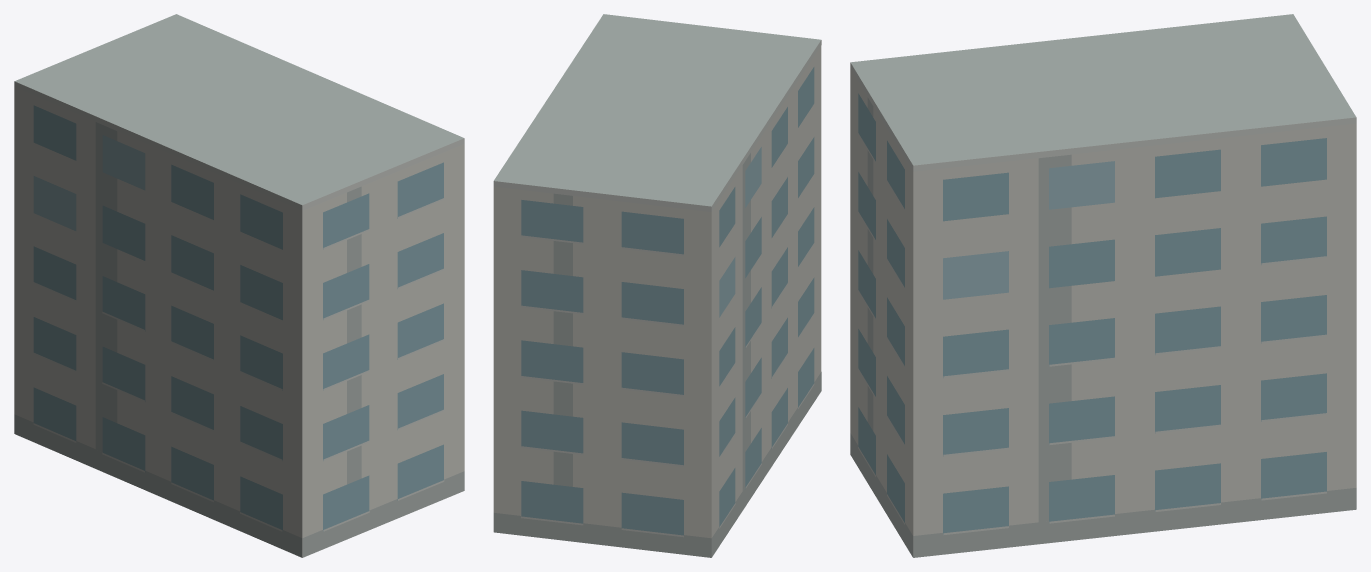
The model's file is residential-c38dee9c-52ae-45ca-85ea-59201342b308.glb.
3 renders of one model, left to right at view 1: azimuth 30°, elevation 25°; view 2: azimuth 150°, elevation 25°; view 3: azimuth 270°, elevation 25°, orthographic. The views are drawn at different scales.
Visible parts, largest first — view 1: residential-c38dee9c-52ae-45ca-85ea-59201342b308.tmp; view 2: residential-c38dee9c-52ae-45ca-85ea-59201342b308.tmp; view 3: residential-c38dee9c-52ae-45ca-85ea-59201342b308.tmp.
Boxes of the visible parts, x1,y1,x2,y2 form: residential-c38dee9c-52ae-45ca-85ea-59201342b308.tmp: (14, 14, 464, 557); residential-c38dee9c-52ae-45ca-85ea-59201342b308.tmp: (493, 14, 821, 557); residential-c38dee9c-52ae-45ca-85ea-59201342b308.tmp: (850, 14, 1356, 557).
Bounding box in the file's own units: 12.65 × 15.25 × 17.85.
